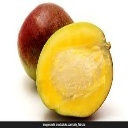mango: (36, 21, 115, 120)
